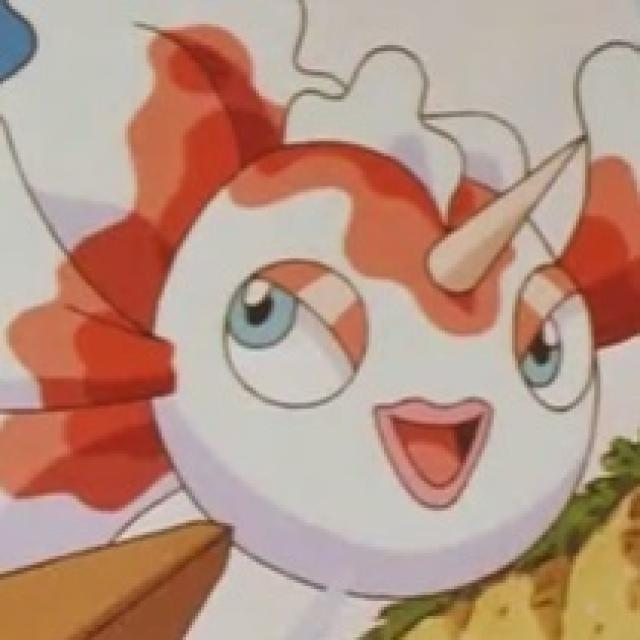Goldeen: (11, 3, 640, 596)
